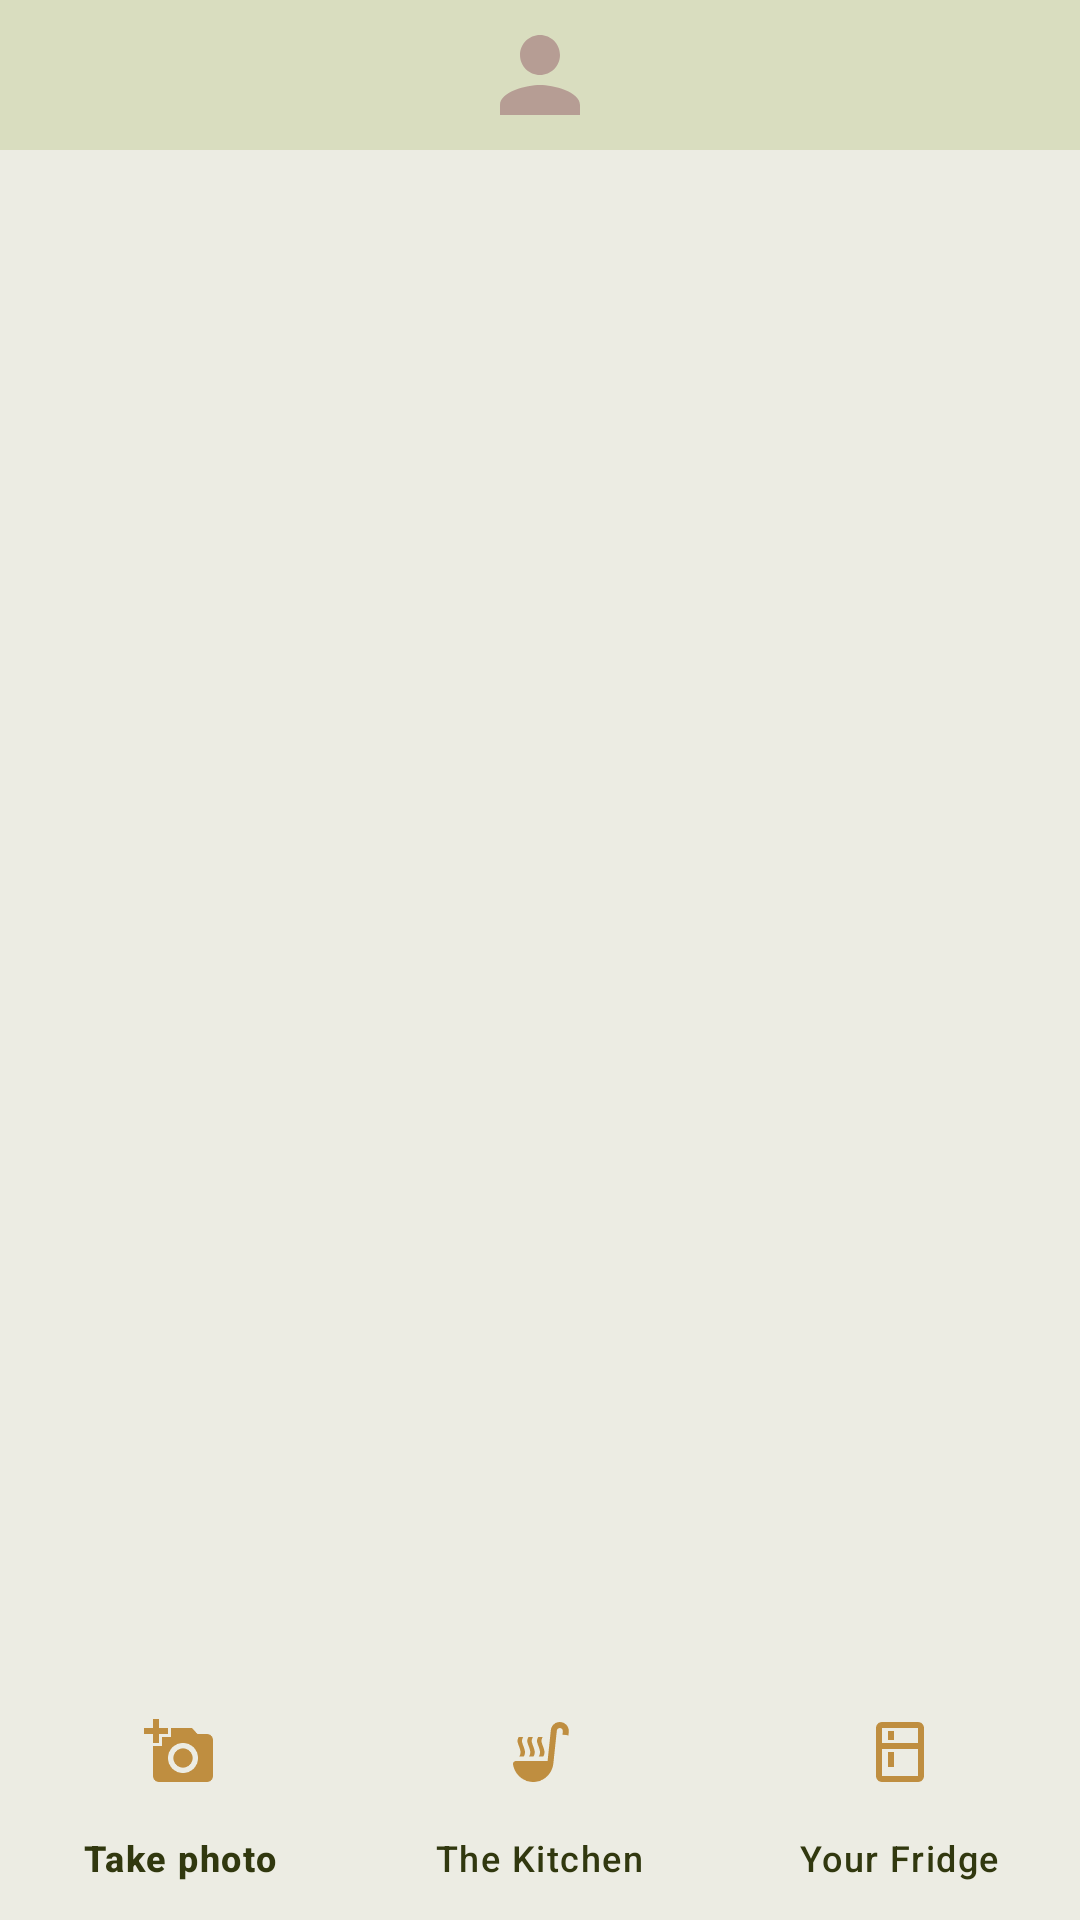

Icon bounding boxes for this 1080x1920 phone screenshot, format (x1, y1, x2, y2):
person: (500, 35, 580, 115)
